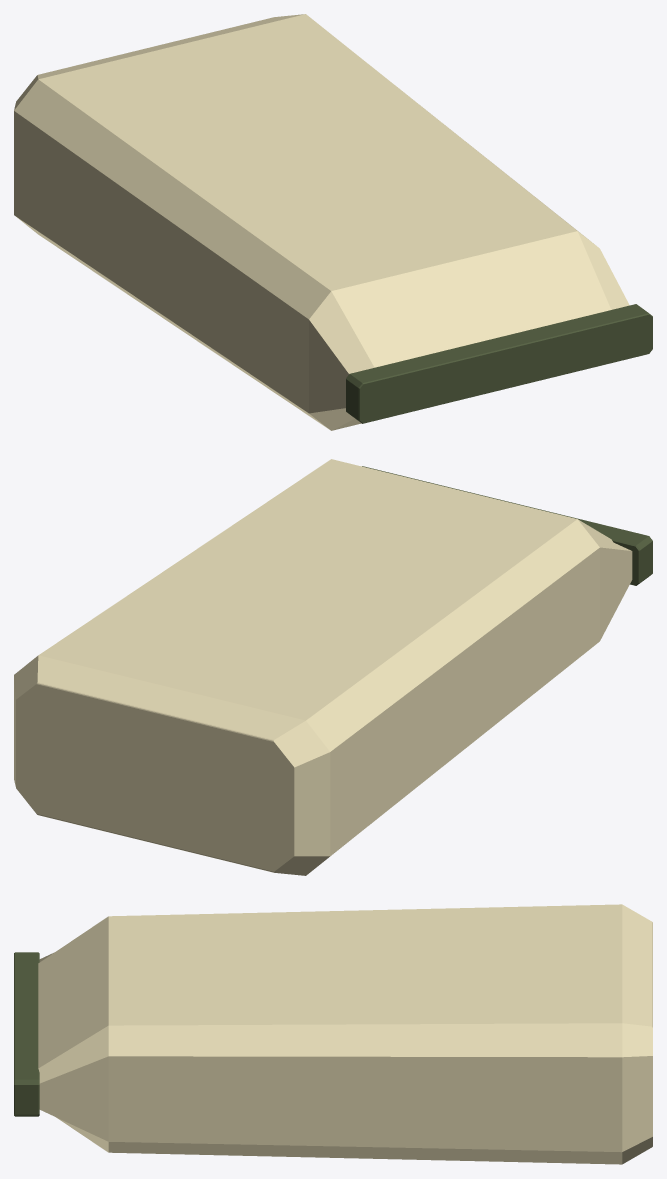
The model's file is plant_food.glb.
The picture shows the model from 3 angles, top to bottom: view 1: azimuth 30°, elevation 25°; view 2: azimuth 150°, elevation 25°; view 3: azimuth 270°, elevation 25°; orthographic projection. The views are drawn at different scales.
Parts seen in each view (by area): view 1: plant_food; view 2: plant_food; view 3: plant_food.
Part boxes in pixels (box(x1,y1,x2,y2)): plant_food: box(14, 14, 652, 430); plant_food: box(14, 459, 652, 875); plant_food: box(14, 904, 652, 1164).
Bounding box in the file's own units: 0.13 × 0.0631 × 0.25.
